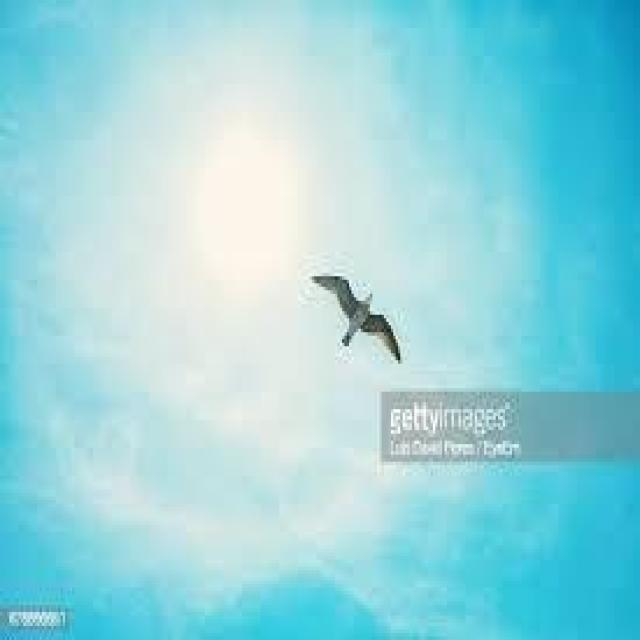bird: (310, 266, 410, 371)
